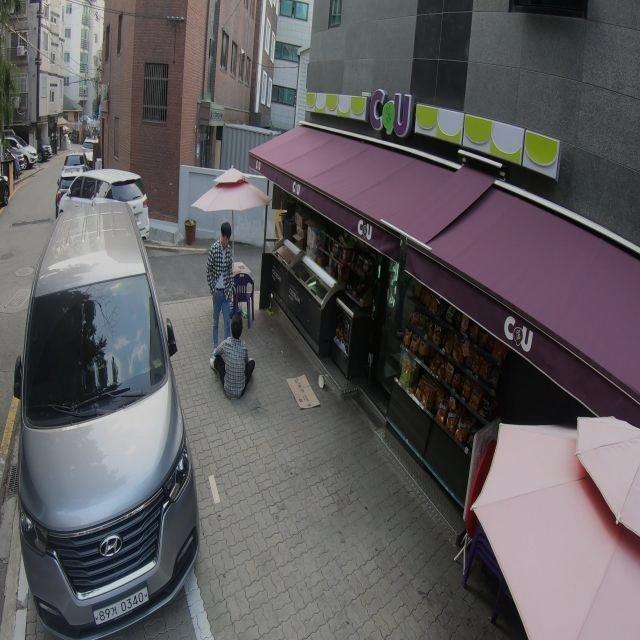fight: (206, 224, 237, 350)
non-fight: (210, 315, 254, 396)
